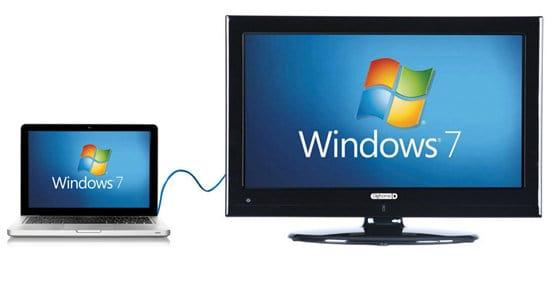monitor: (224, 13, 543, 218), (19, 122, 162, 217)
